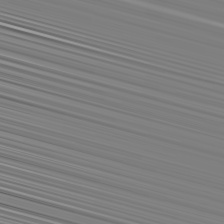cavities: (0, 75, 152, 148)
